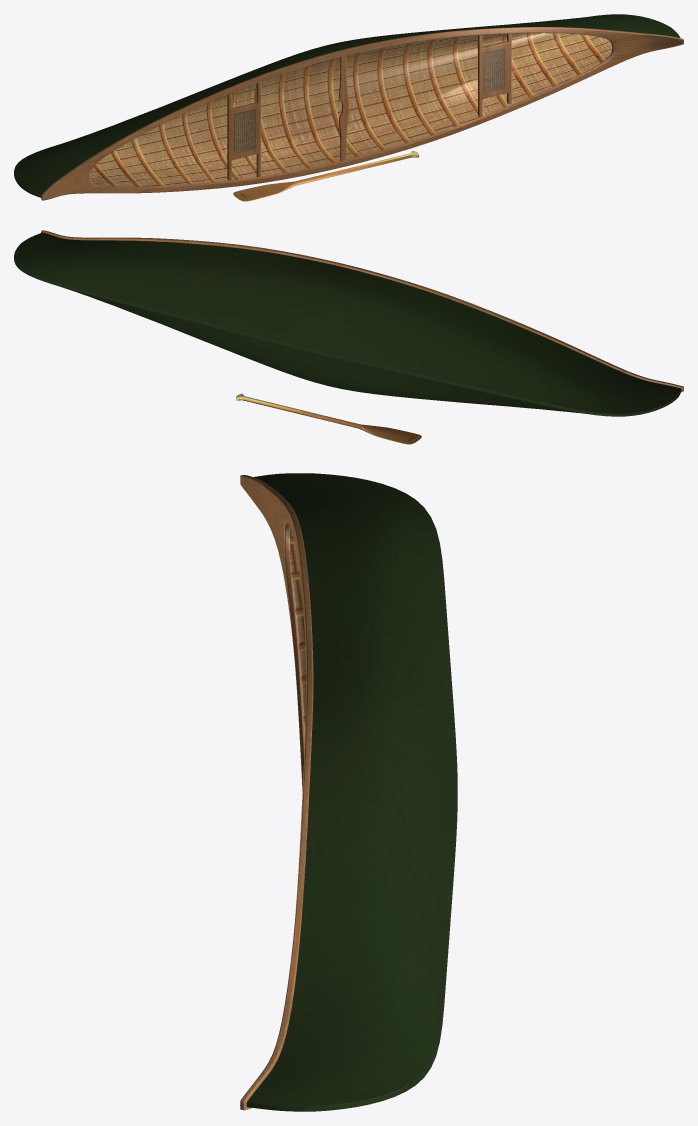
Rendered from 10496_Canoe_v1_L3.obj.
3 views of the same model, one above another, from view 1: azimuth 30°, elevation 25°; view 2: azimuth 150°, elevation 25°; view 3: azimuth 270°, elevation 25° (orthographic). The views are drawn at different scales.
Parts seen in each view (by area): view 1: 10496_canoe; view 2: 10496_canoe; view 3: 10496_canoe.
Part boxes in pixels (box(x1,y1,x2,y2)): 10496_canoe: box(14, 14, 683, 201); 10496_canoe: box(14, 230, 683, 444); 10496_canoe: box(240, 473, 457, 1111).
Bounding box in the file's own units: 502 × 105 × 72.78.
1 material, 1 textured.
